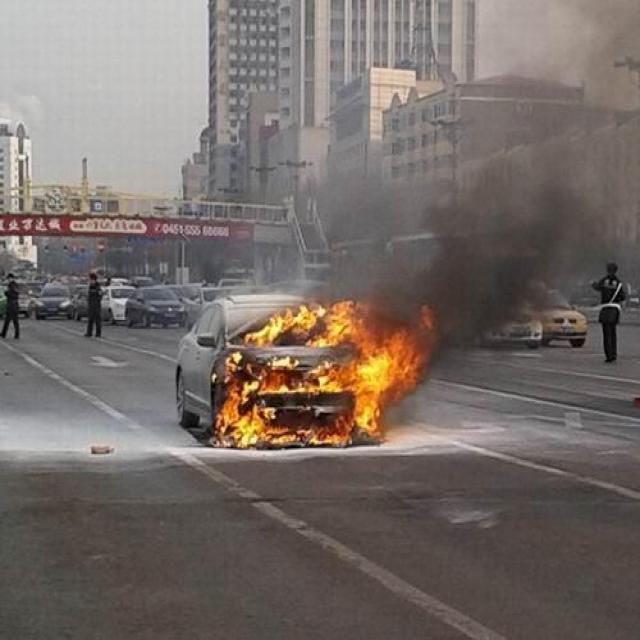fire: (215, 293, 438, 447)
smoke: (301, 0, 640, 339)
